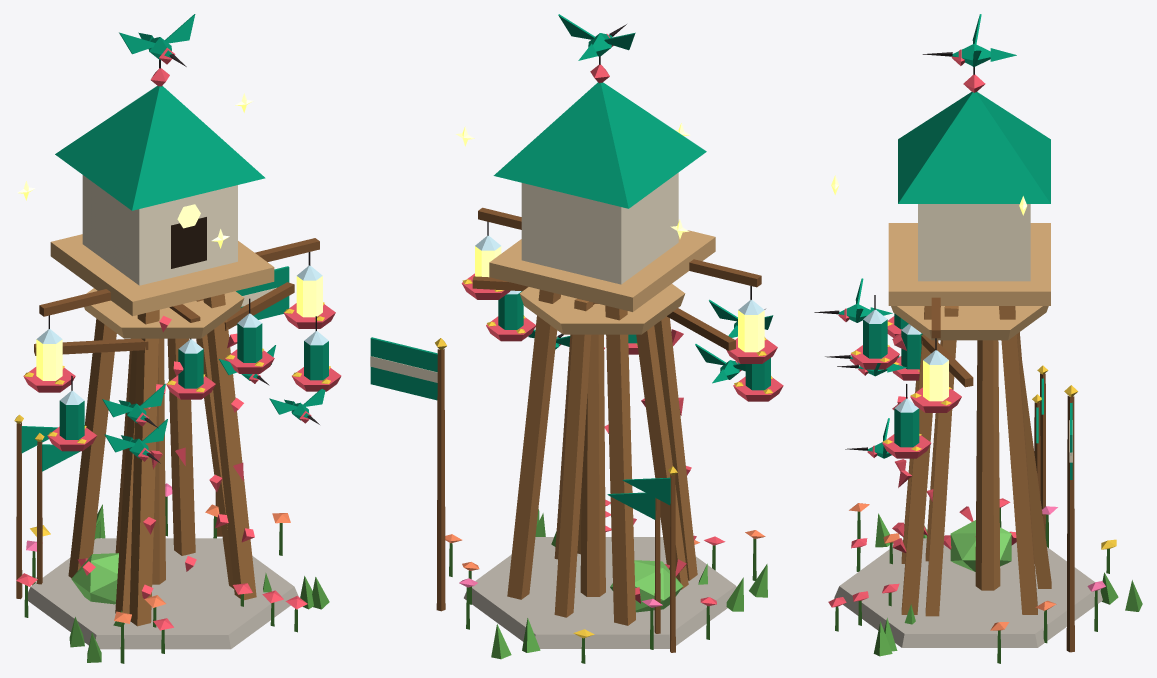
The model's file is hummingbird-feeder-tower.glb.
3 renders of one model, left to right at view 1: azimuth 30°, elevation 25°; view 2: azimuth 150°, elevation 25°; view 3: azimuth 270°, elevation 25°, orthographic. The views are drawn at different scales.
Parts seen in each view (by area): view 1: lv3, lv2, lv1; view 2: lv3, lv2, lv1; view 3: lv3, lv2, lv1.
Boxes of the visible parts, x1,y1,x2,y2 form: lv3: (14, 14, 335, 663); lv2: (26, 282, 341, 653); lv1: (71, 304, 275, 627); lv3: (370, 14, 777, 663); lv2: (462, 276, 783, 652); lv1: (551, 302, 707, 612); lv3: (814, 14, 1142, 663); lv2: (825, 306, 1118, 651); lv1: (837, 324, 1016, 624).
Size of the model in its own units: 1.66 by 2.79 by 1.47.
